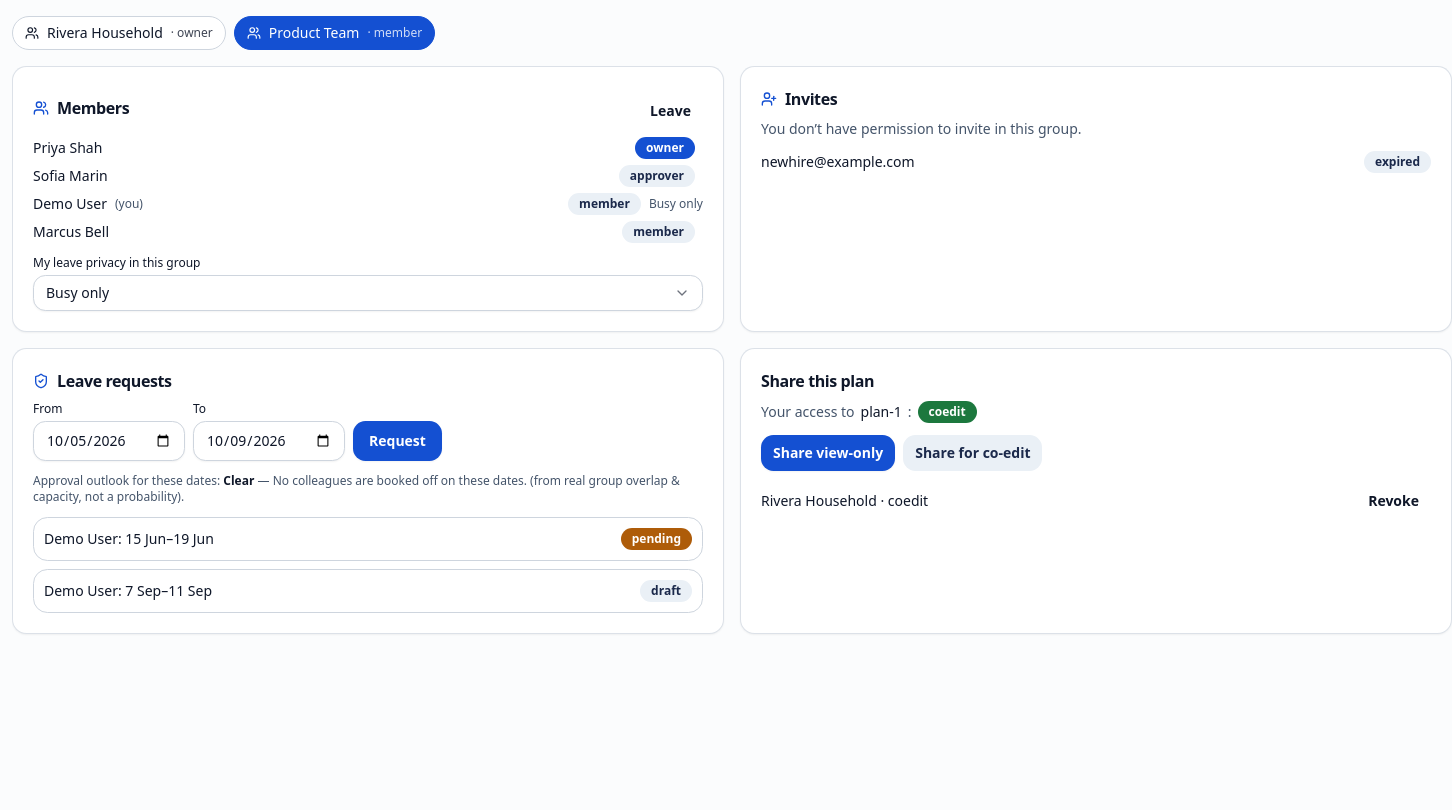
Test: GroupView › lets a member request leave, which appears as pending
Step 1. Click the button "Request" → (397, 441), box [353, 421, 442, 461]
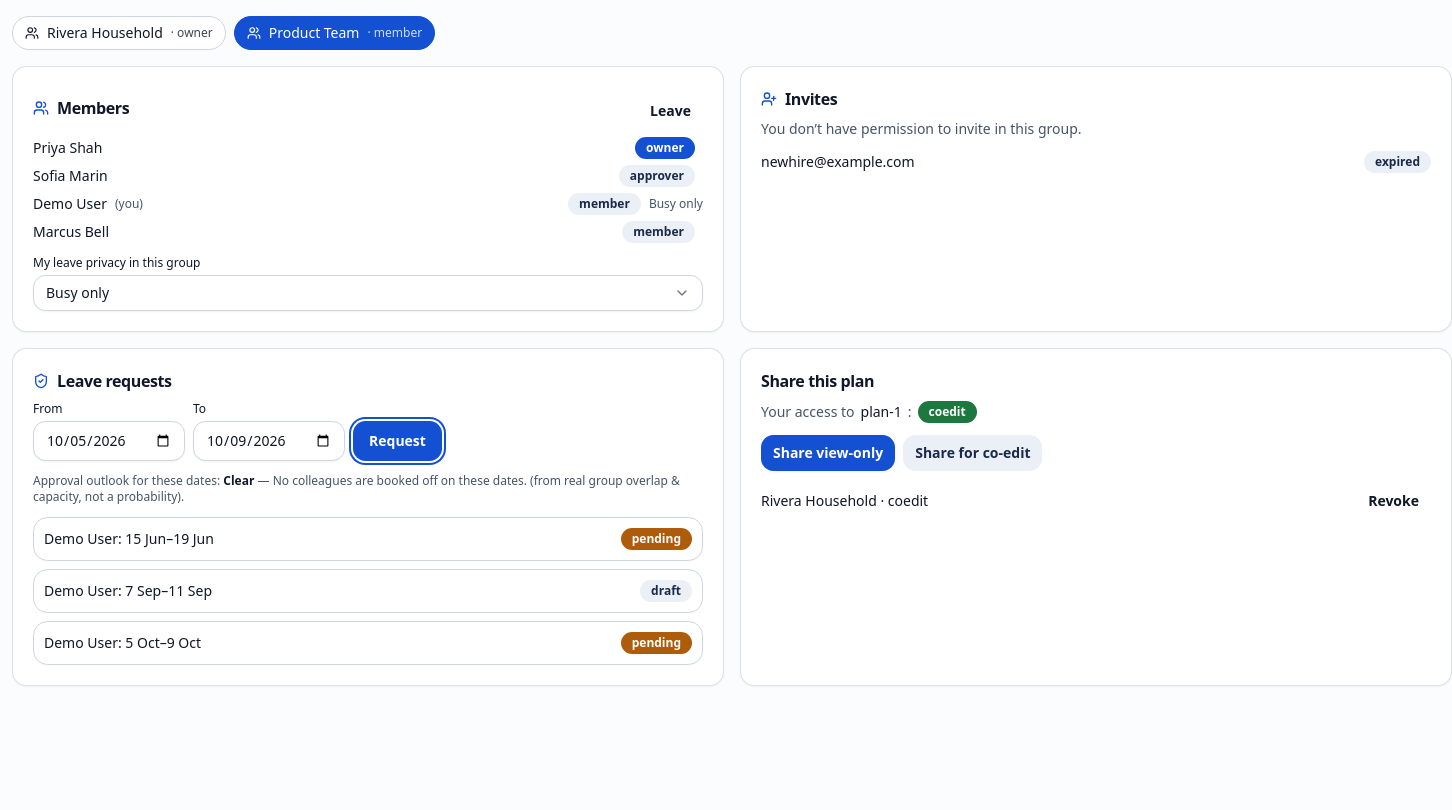
Expected: the text "pending" in the row of "19 Jun" is shown, [632, 530, 681, 547]
Now the text "Demo User: 5 Oct–9 Oct" is shown, box [44, 633, 201, 653]
